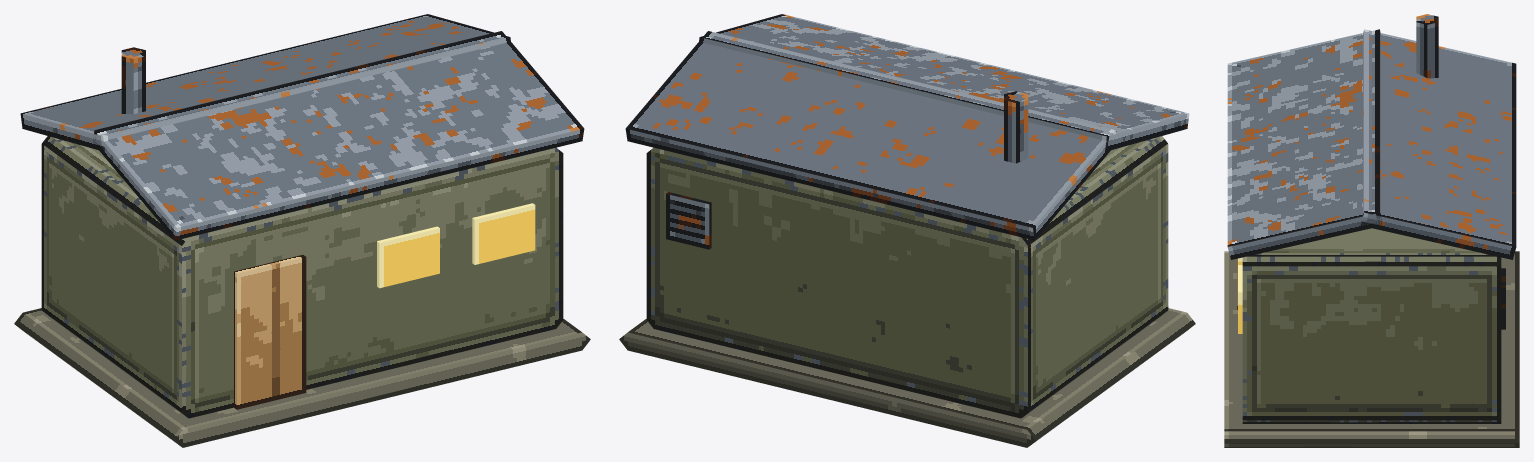
Rendered from bunkhouse.glb.
3 views of the same model, side by side, from view 1: azimuth 30°, elevation 25°; view 2: azimuth 150°, elevation 25°; view 3: azimuth 270°, elevation 25° (orthographic). The views are drawn at different scales.
Parts seen in each view (by area): view 1: hull, roofR, roofL, slab, door, win2, win1, stove; view 2: hull, roofL, roofR, slab, vent, stove; view 3: hull, roofR, roofL, slab, stove, win2, vent.
Boxes of the visible parts, <box> form: hull: <box>41,136,563,418</box>; roofR: <box>93,31,584,240</box>; roofL: <box>20,14,510,151</box>; slab: <box>14,308,590,447</box>; door: <box>234,255,306,409</box>; win2: <box>472,203,535,264</box>; win1: <box>377,226,439,288</box>; stove: <box>121,47,145,114</box>; hull: <box>646,136,1168,418</box>; roofL: <box>625,31,1115,240</box>; roofR: <box>699,14,1189,151</box>; slab: <box>619,308,1195,447</box>; vent: <box>666,192,711,249</box>; stove: <box>1004,91,1028,163</box>; hull: <box>1242,228,1501,423</box>; roofR: <box>1227,29,1382,259</box>; roofL: <box>1361,29,1516,259</box>; slab: <box>1224,251,1519,447</box>; stove: <box>1416,14,1438,78</box>; win2: <box>1238,265,1242,333</box>; vent: <box>1501,268,1505,329</box>.
Size of the model in its own units: 48 by 33 by 32.
1 material, 1 textured.
